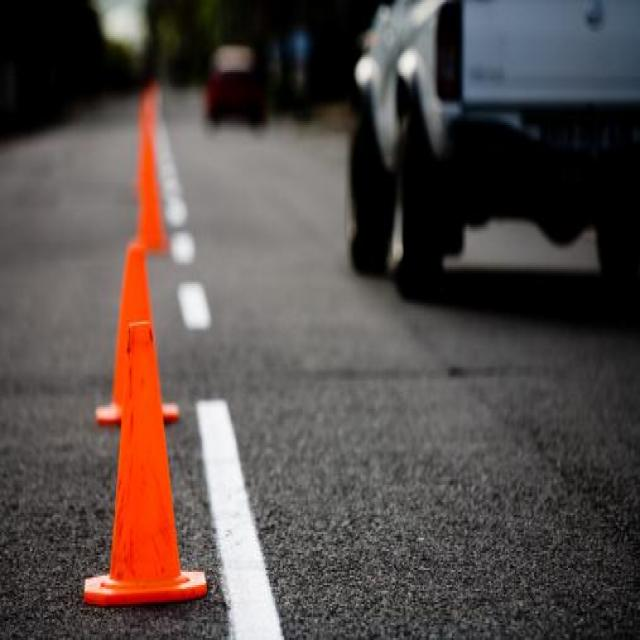Cone: (85, 323, 208, 610), (96, 244, 182, 426), (126, 138, 169, 254)
